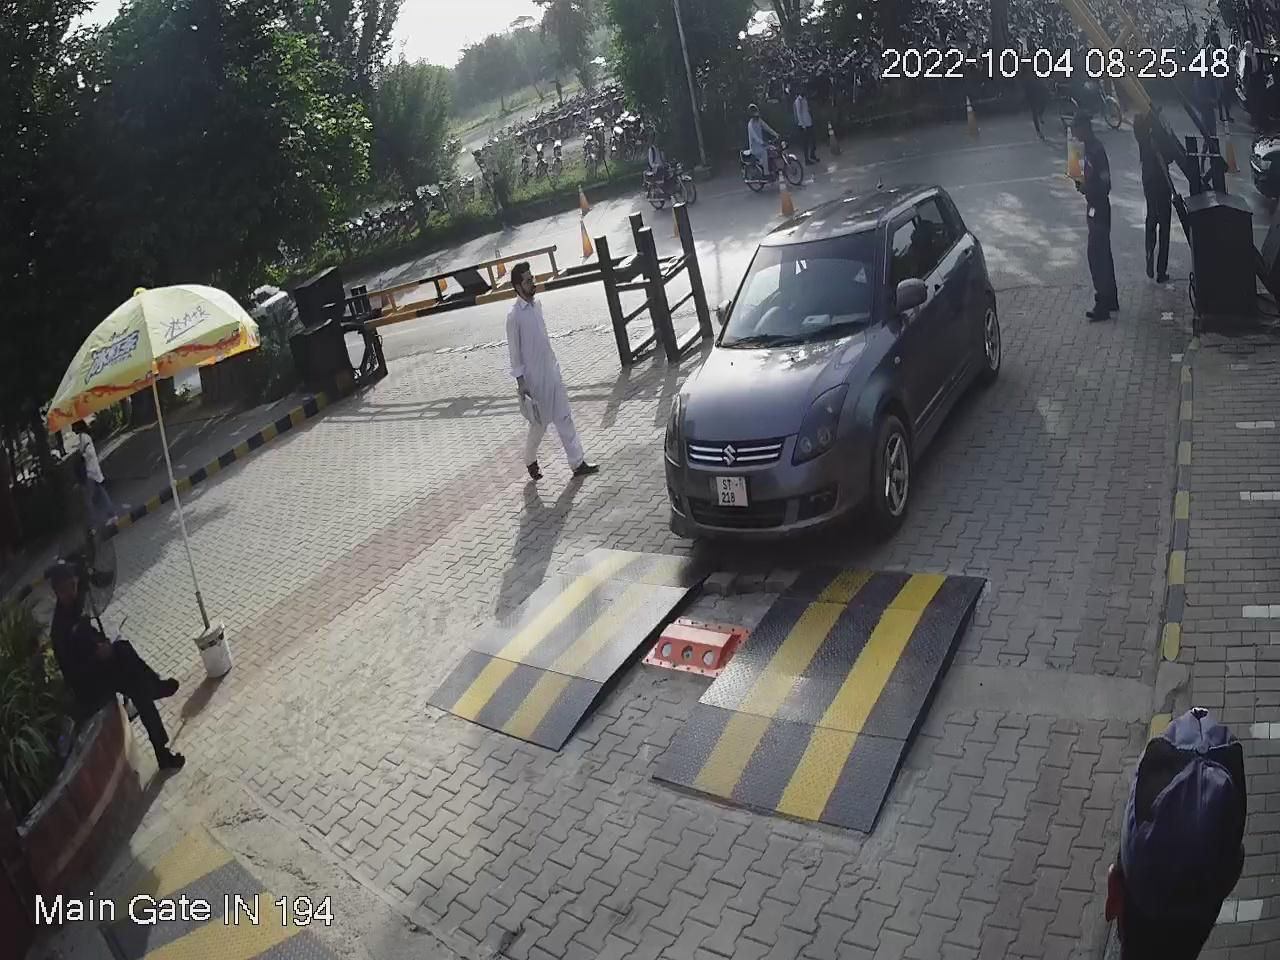windshield: (711, 223, 890, 345)
